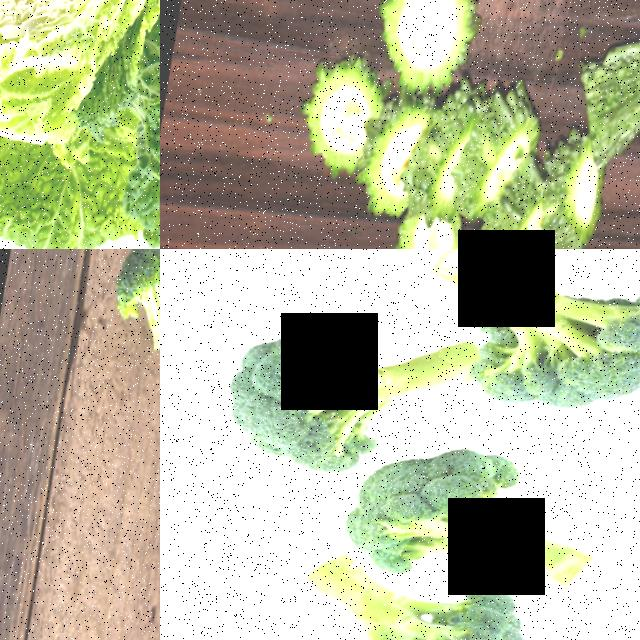bitter gourd: (355, 0, 498, 101), (568, 0, 640, 169), (293, 69, 367, 172), (407, 93, 468, 216), (359, 97, 416, 222), (473, 178, 548, 249), (386, 222, 461, 249)
broccoli: (348, 441, 640, 617), (199, 300, 389, 488), (451, 252, 640, 438), (221, 559, 544, 640), (80, 249, 160, 383)
cabbage: (0, 0, 160, 132)
